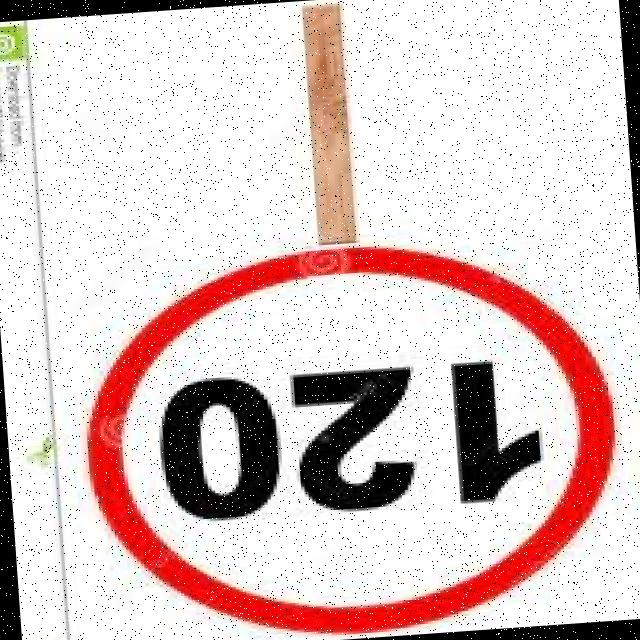speed_limit_120: (73, 229, 632, 640)
